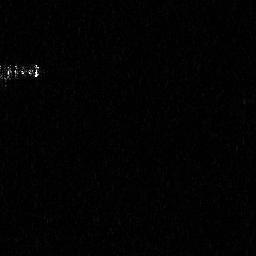ship: (1, 59, 39, 84)
